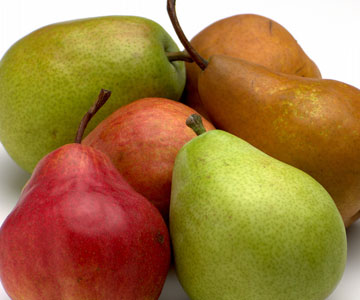pear: (177, 122, 340, 300), (1, 17, 178, 145), (199, 58, 360, 192), (10, 149, 150, 300), (95, 98, 205, 192), (190, 16, 313, 86)
